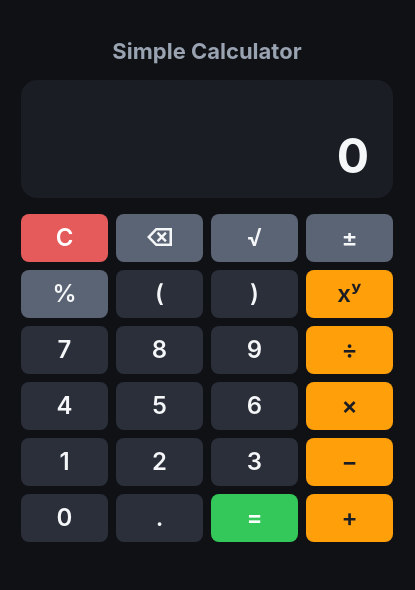
Test: App › surfaces a bad_request error in the alert banner
Click the button "1". click: [64, 462]
box: [21, 438, 108, 486]
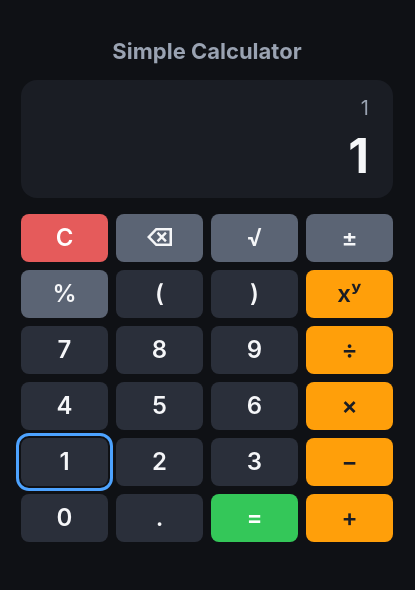
Click the button named "divide". click: [350, 350]
box: [306, 326, 393, 374]
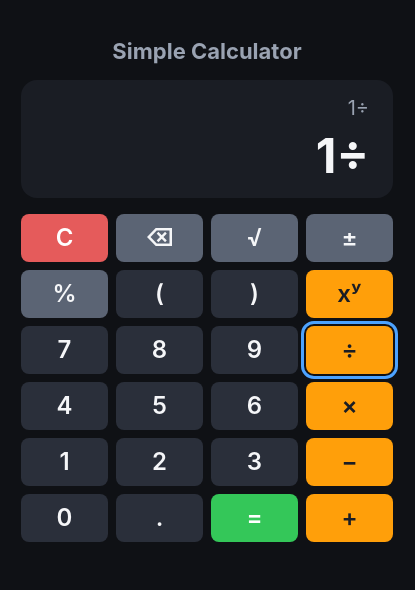
Click the button "0". click: [64, 518]
box: [21, 494, 108, 542]
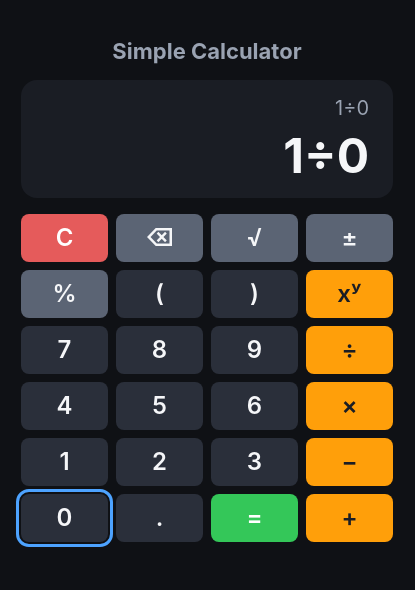
Click the button named "equals". click: [254, 518]
box: [211, 494, 298, 542]
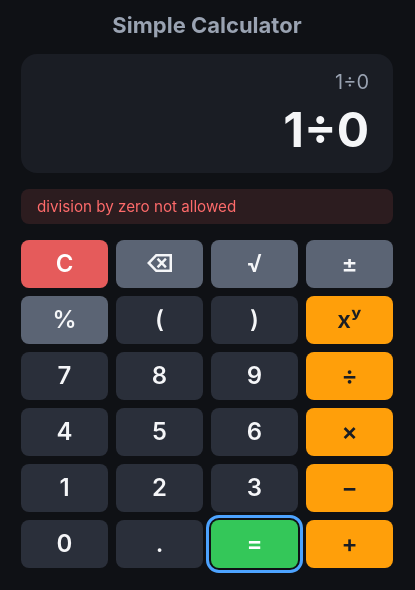
Check: the message "division by zero not allowed" is shown, box [21, 189, 393, 224]
